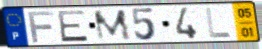4: (175, 7, 200, 41)
5: (131, 6, 161, 42)
E: (56, 9, 91, 44)
F: (26, 10, 56, 44)
L: (204, 6, 233, 39)
M: (92, 9, 134, 43)
